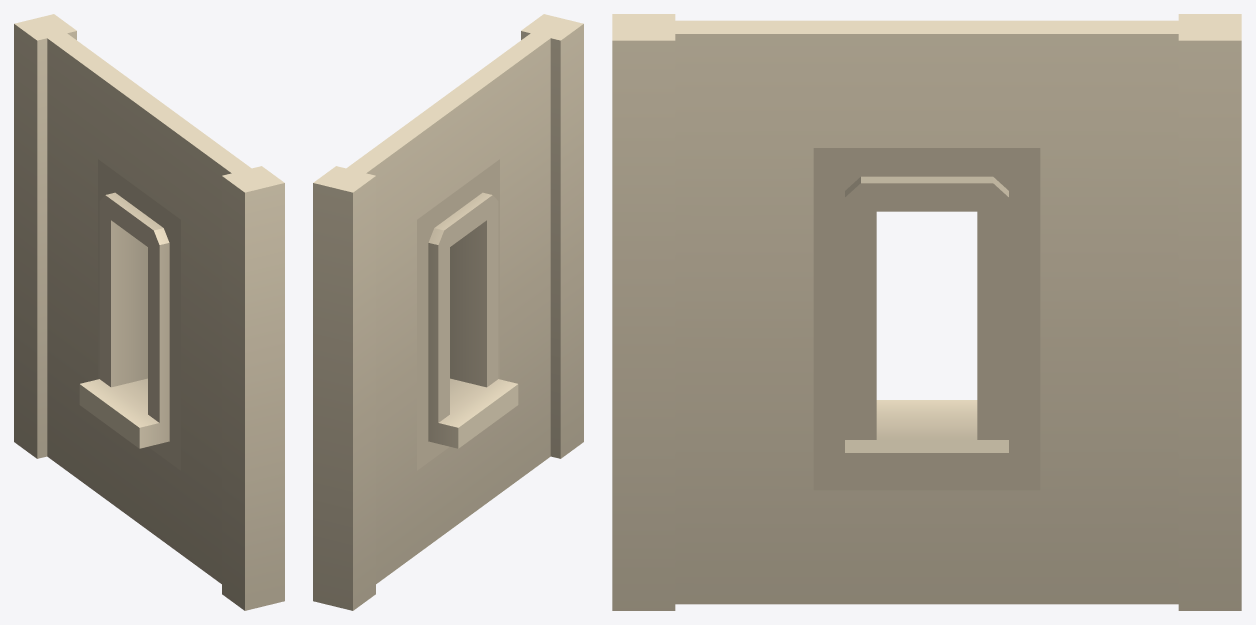
File: wall-wood-window-small.glb
3 renders of one model, left to right at view 1: azimuth 30°, elevation 25°; view 2: azimuth 150°, elevation 25°; view 3: azimuth 270°, elevation 25°, orthographic. The views are drawn at different scales.
Parts seen in each view (by area): view 1: wall-wood-window-small; view 2: wall-wood-window-small; view 3: wall-wood-window-small.
Boxes of the visible parts, x1,y1,x2,y2 form: wall-wood-window-small: (14, 14, 284, 610); wall-wood-window-small: (313, 14, 583, 610); wall-wood-window-small: (612, 14, 1241, 610).
Size of the model in its own units: 0.2 by 1 by 1.
Materials: 1 (1 with a texture image).
